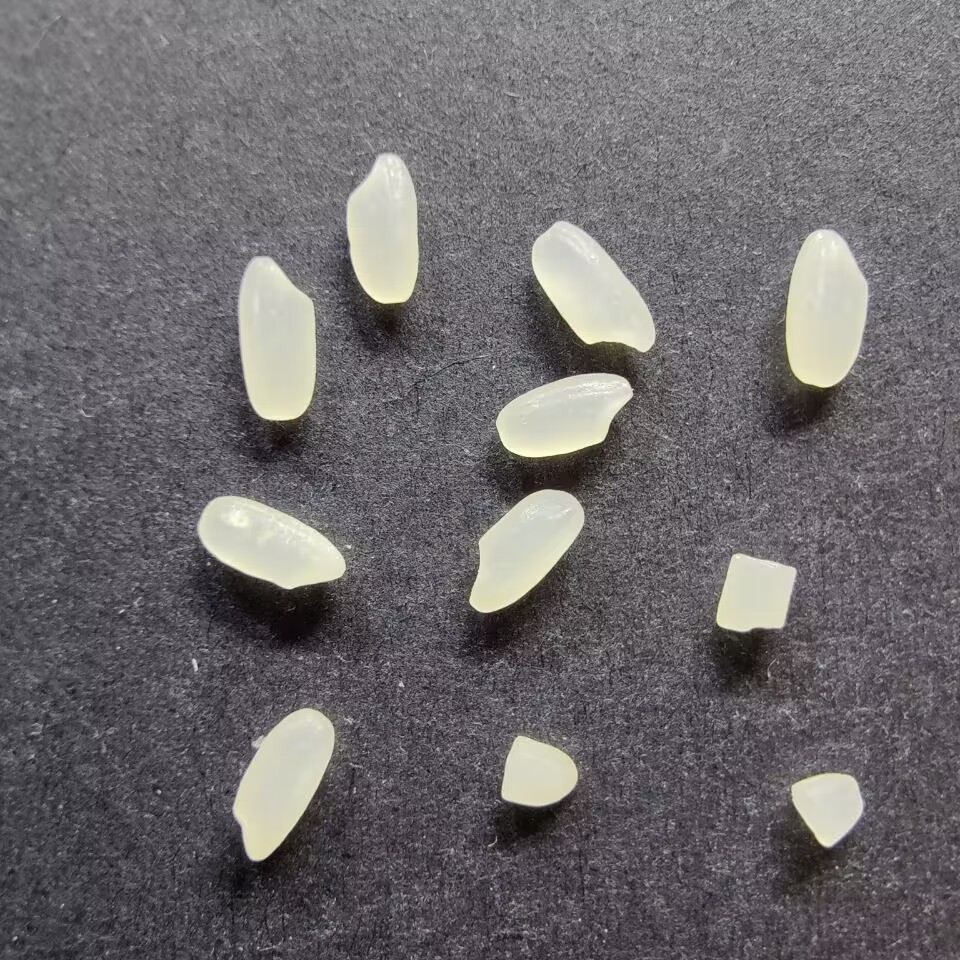broken: (712, 551, 800, 633), (786, 771, 865, 849), (499, 733, 578, 807)
rice: (529, 218, 658, 354), (231, 706, 337, 862), (467, 487, 586, 614), (196, 494, 348, 592), (783, 228, 871, 388), (235, 254, 318, 422), (493, 370, 635, 459), (344, 152, 420, 304)
